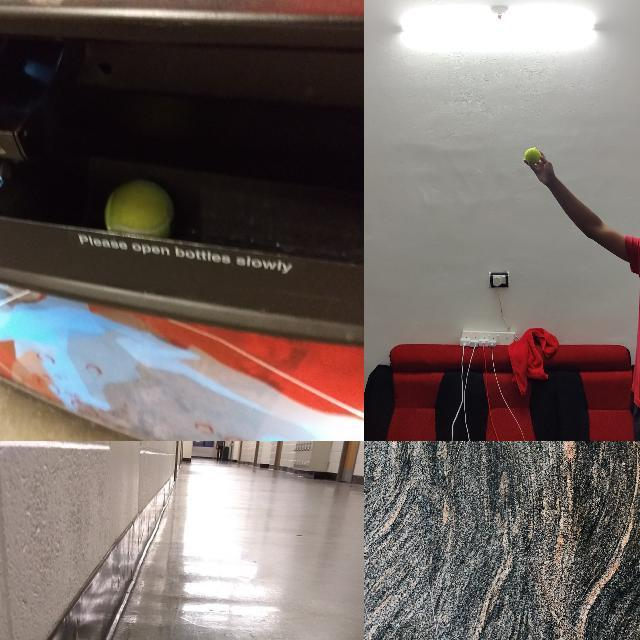tennis-ball: (104, 179, 175, 230), (524, 147, 541, 163)
